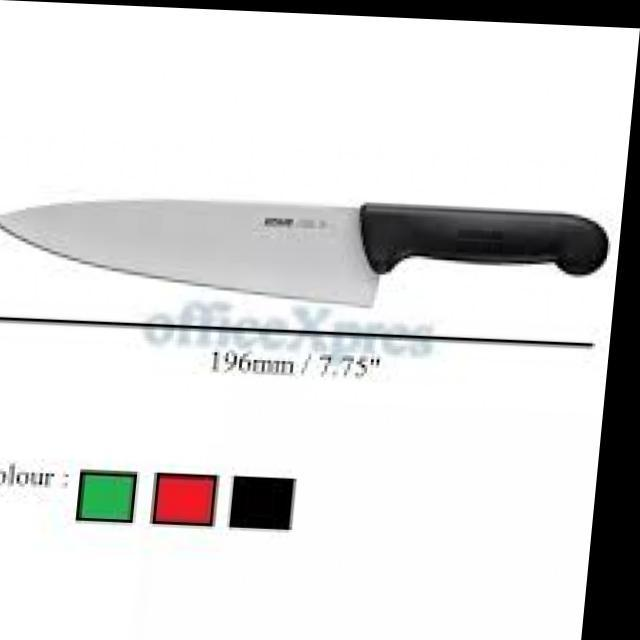knife: (0, 196, 608, 309)
